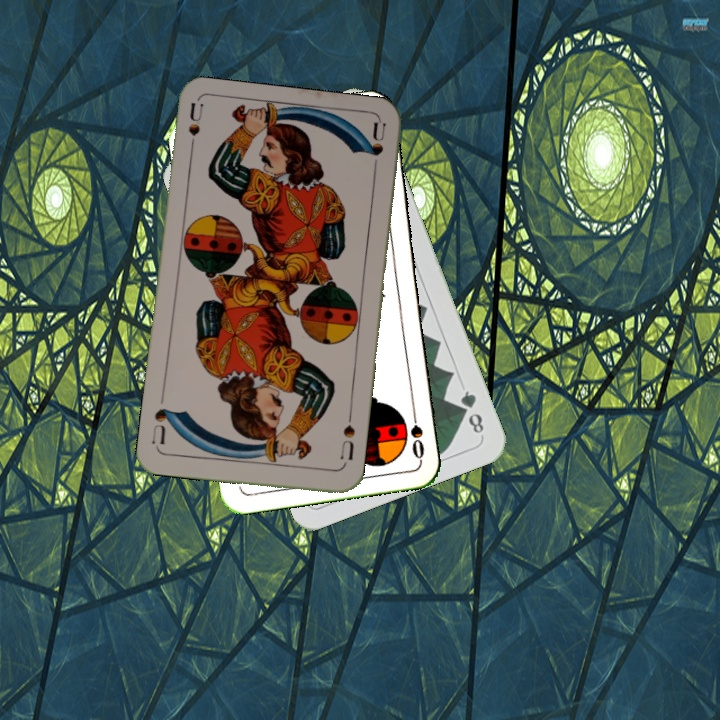G8: (456, 386, 487, 437)
SO: (406, 403, 427, 462)
SU: (184, 101, 206, 160), (336, 421, 358, 463)
